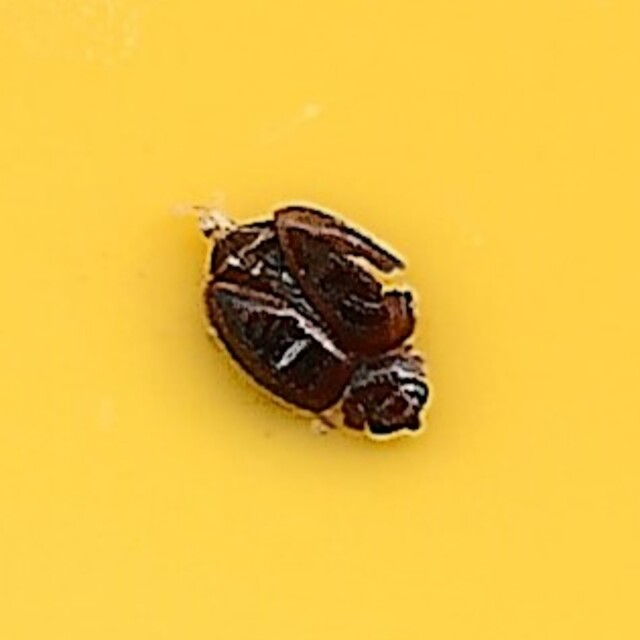Coleoptera: (203, 199, 437, 441)
